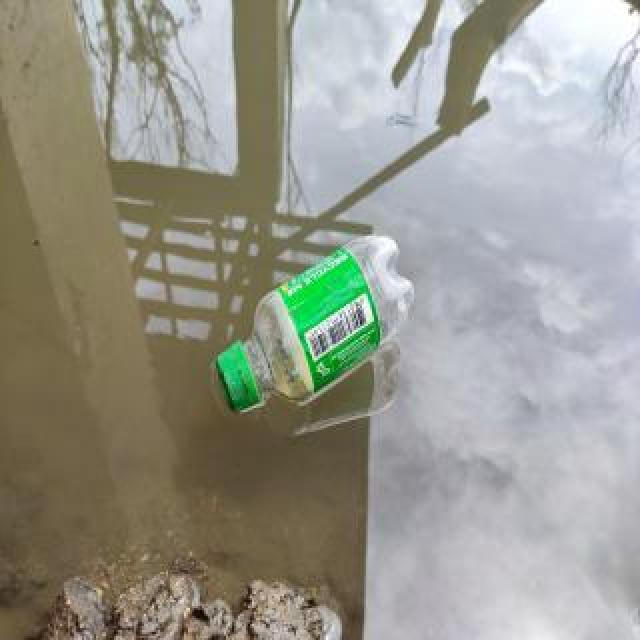bottle: (210, 222, 418, 420)
